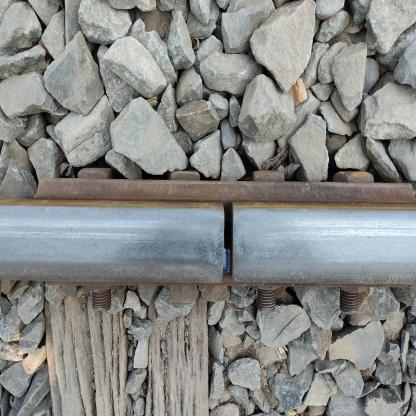Non Defective 2: (176, 178, 278, 299)
Non Defective 3: (43, 274, 407, 332)
